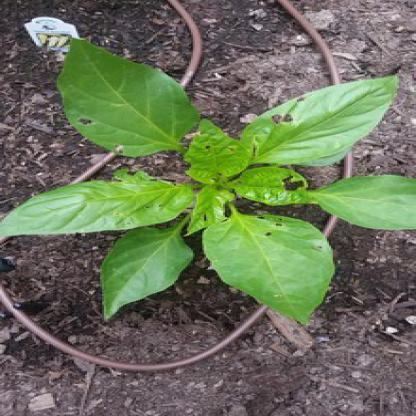Bell_pepper leaf: (52, 33, 198, 155), (204, 206, 336, 328), (240, 73, 401, 168), (2, 176, 195, 250), (180, 118, 246, 186), (223, 168, 333, 205)
